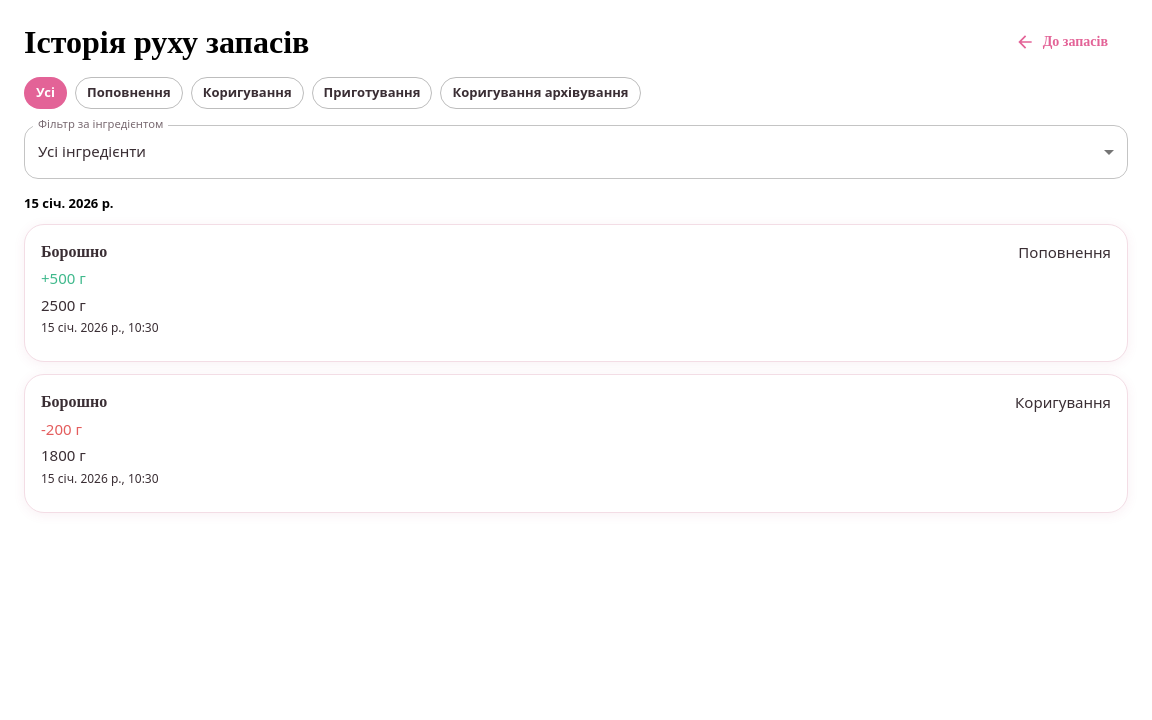
Test: InventoryHistoryPage movement type filter › narrows the visible movements to the selected type on click
expect the text "+500 г" is shown: met, box [41, 268, 86, 288]
expect the text "-200 г" is shown: met, box [41, 419, 82, 439]
Click the button "Коригування": (247, 92) [191, 76, 304, 108]
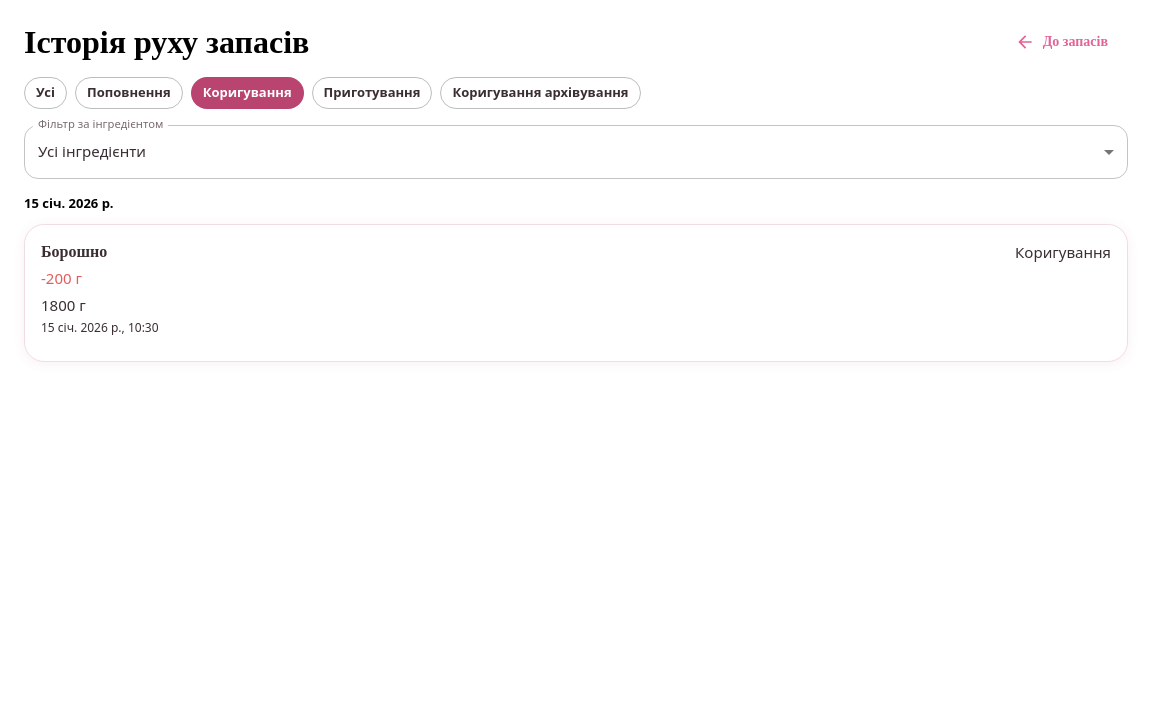
expect the text "-200 г" is shown: met, box [41, 268, 82, 288]
expect the text "+500 г" is gone: met
